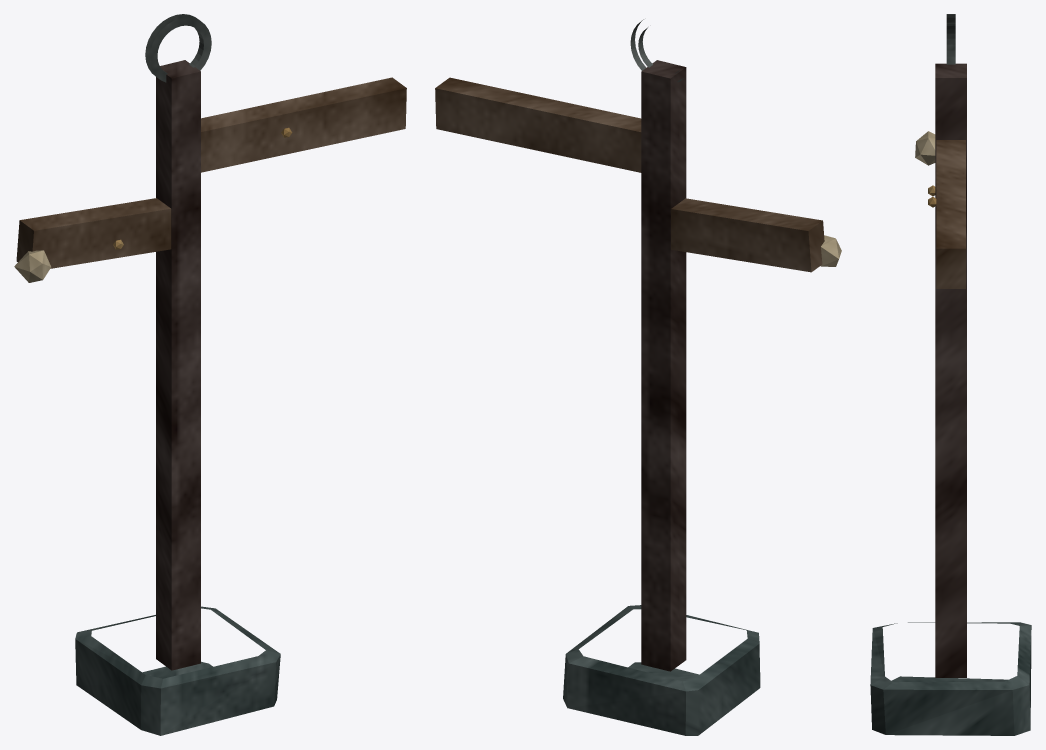
Rendered from 0637_signpost_12.glb.
3 renders of one model, left to right at view 1: azimuth 30°, elevation 25°; view 2: azimuth 150°, elevation 25°; view 3: azimuth 270°, elevation 25°, orthographic.
Visible parts, largest first — view 1: wood_dark, wood, stone_dark, iron, bone; view 2: wood_dark, wood, stone_dark; view 3: wood_dark, stone_dark, wood, bone, iron.
Part boxes in pixels (x1,y1,x2,y2): wood_dark: [156, 60, 200, 670]; wood: [16, 77, 406, 268]; stone_dark: [75, 606, 280, 735]; iron: [145, 14, 211, 82]; bone: [14, 250, 51, 282]; wood_dark: [641, 60, 686, 671]; wood: [435, 77, 824, 272]; stone_dark: [563, 605, 760, 735]; wood_dark: [935, 63, 966, 677]; stone_dark: [870, 622, 1031, 735]; wood: [936, 140, 965, 288]; bone: [915, 131, 935, 165]; iron: [946, 14, 955, 64].
Bounding box in the file's own units: 2.02 × 3.35 × 0.7102.
Materials: 6 (6 with a texture image).
